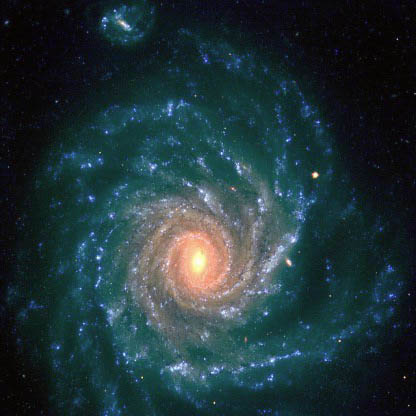NGC 1232: (27, 5, 403, 407)
